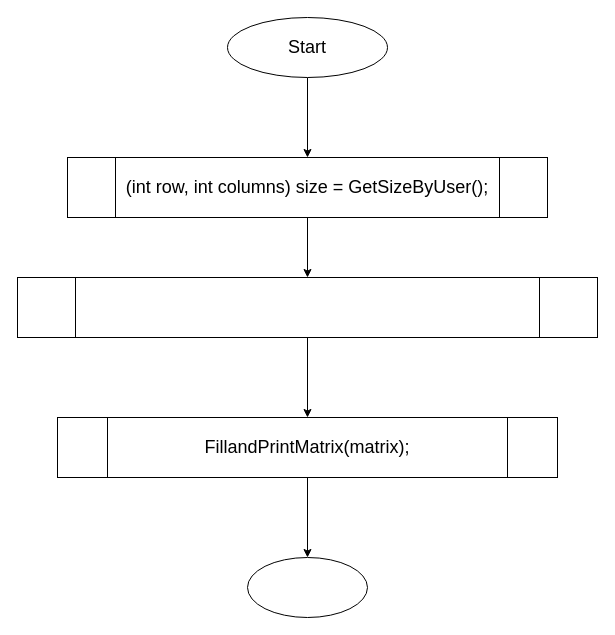
The diagram is 615 pixels wide and 635 high, and some of its shapes have lost their labels. The shapes that lost their labels are listed below. From the top down, each one's centre as x and y in pixels, then its label:
At [307,307]: "double[,] matrix = CreateMatrix(size.row, size.columns);".
At [307,587]: "End".
